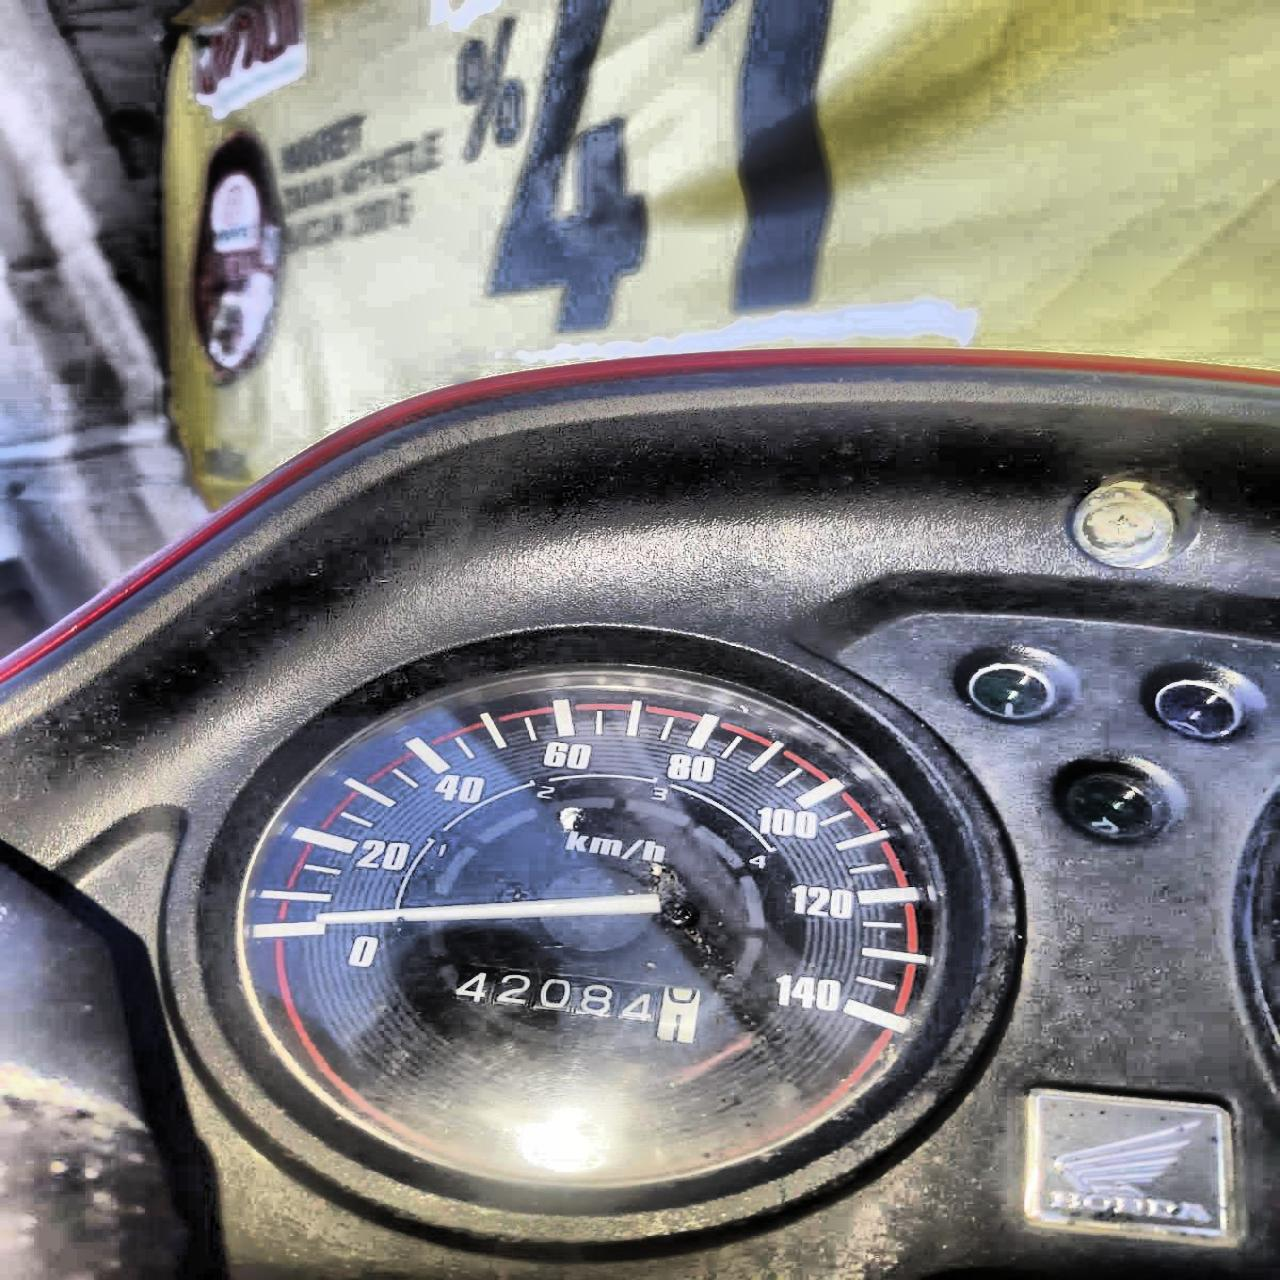0: (538, 978, 570, 1007)
1: (669, 1013, 681, 1041)
2: (495, 973, 530, 1003)
4: (455, 971, 486, 1001), (620, 992, 652, 1021)
8: (579, 983, 612, 1013)
odometer: (449, 961, 702, 1047)
